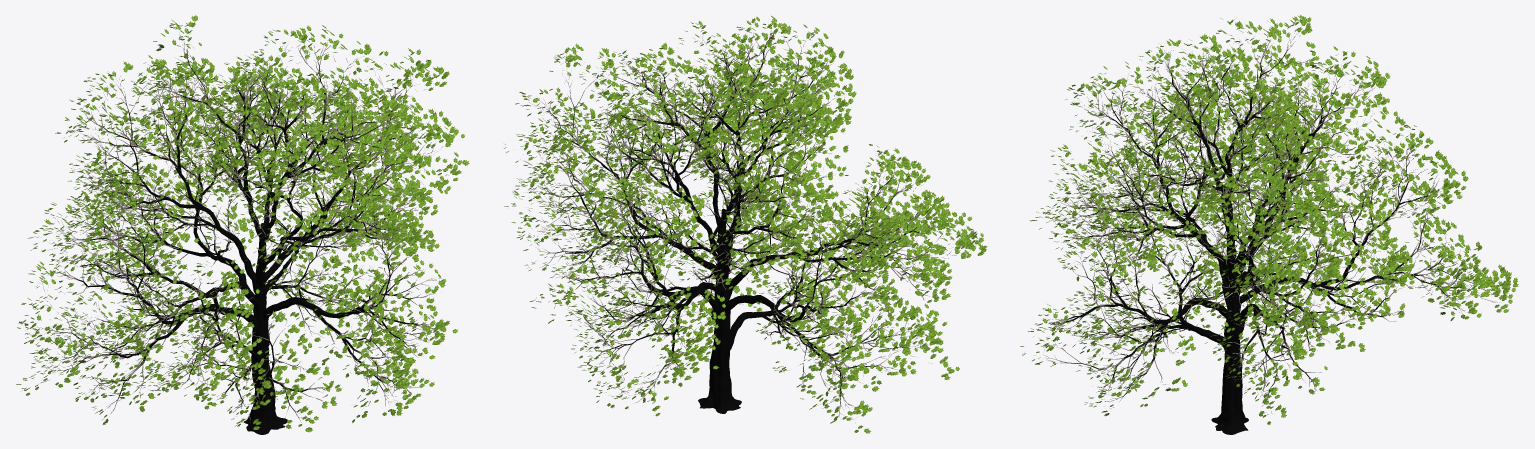
File: LINDEN-ashgreen-FIXED-near.glb
3 views of the same model, side by side, from view 1: azimuth 30°, elevation 25°; view 2: azimuth 150°, elevation 25°; view 3: azimuth 270°, elevation 25° (orthographic). The views are drawn at different scales.
Parts seen in each view (by area): view 1: ash_green_1; view 2: ash_green_1; view 3: ash_green_1.
Boxes of the visible parts, x1,y1,x2,y2 form: ash_green_1: (16,15,469,434); ash_green_1: (504,16,987,433); ash_green_1: (1020,15,1518,434).
Size of the model in its own units: 21.19 by 17.46 by 20.6.
Materials: 2 (2 with a texture image).
